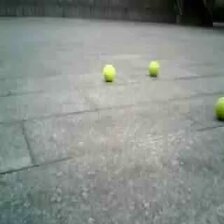tennis: (214, 95, 224, 119), (103, 65, 115, 82), (149, 59, 159, 77)
